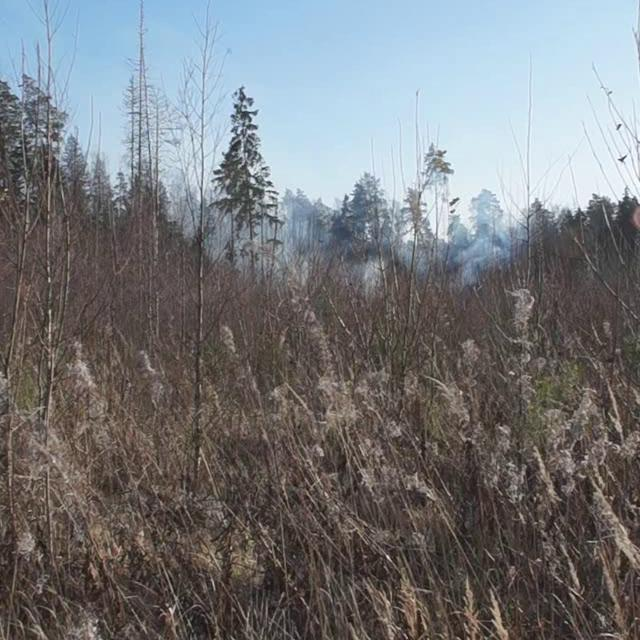Smoke: (146, 156, 537, 314)
